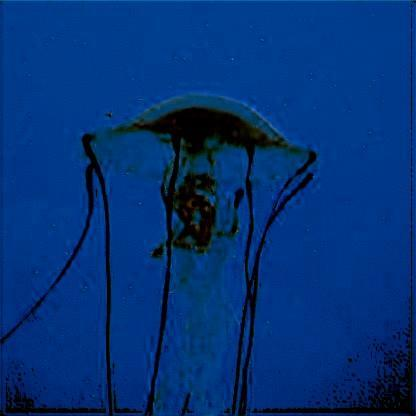Mosaic: (76, 92, 316, 407)
